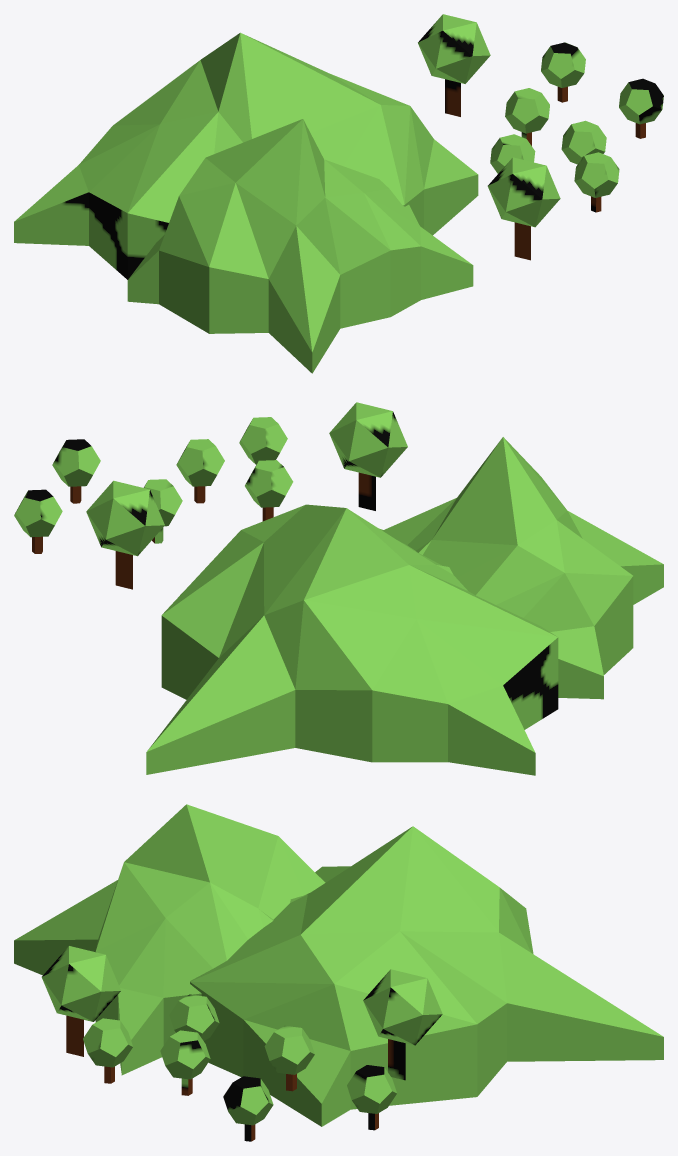
Rendered from deco2.fbx.
The picture shows the model from 3 angles, top to bottom: view 1: azimuth 30°, elevation 25°; view 2: azimuth 150°, elevation 25°; view 3: azimuth 270°, elevation 25°; orthographic projection. The views are drawn at different scales.
Parts seen in each view (by area): view 1: Polygon; view 2: Polygon; view 3: Polygon.
Boxes of the visible parts, x1=… form: Polygon: x1=14, y1=14, x2=663, y2=373; Polygon: x1=14, y1=402, x2=663, y2=775; Polygon: x1=14, y1=804, x2=663, y2=1141.
Size of the model in its own units: 1610 by 509 by 1524.
Materials: 1 (1 with a texture image).
